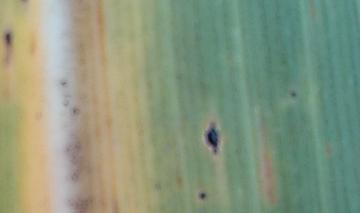tarspot: (203, 122, 222, 157), (3, 31, 14, 45), (57, 78, 71, 87), (288, 89, 298, 99), (197, 191, 206, 200), (20, 1, 29, 5)
